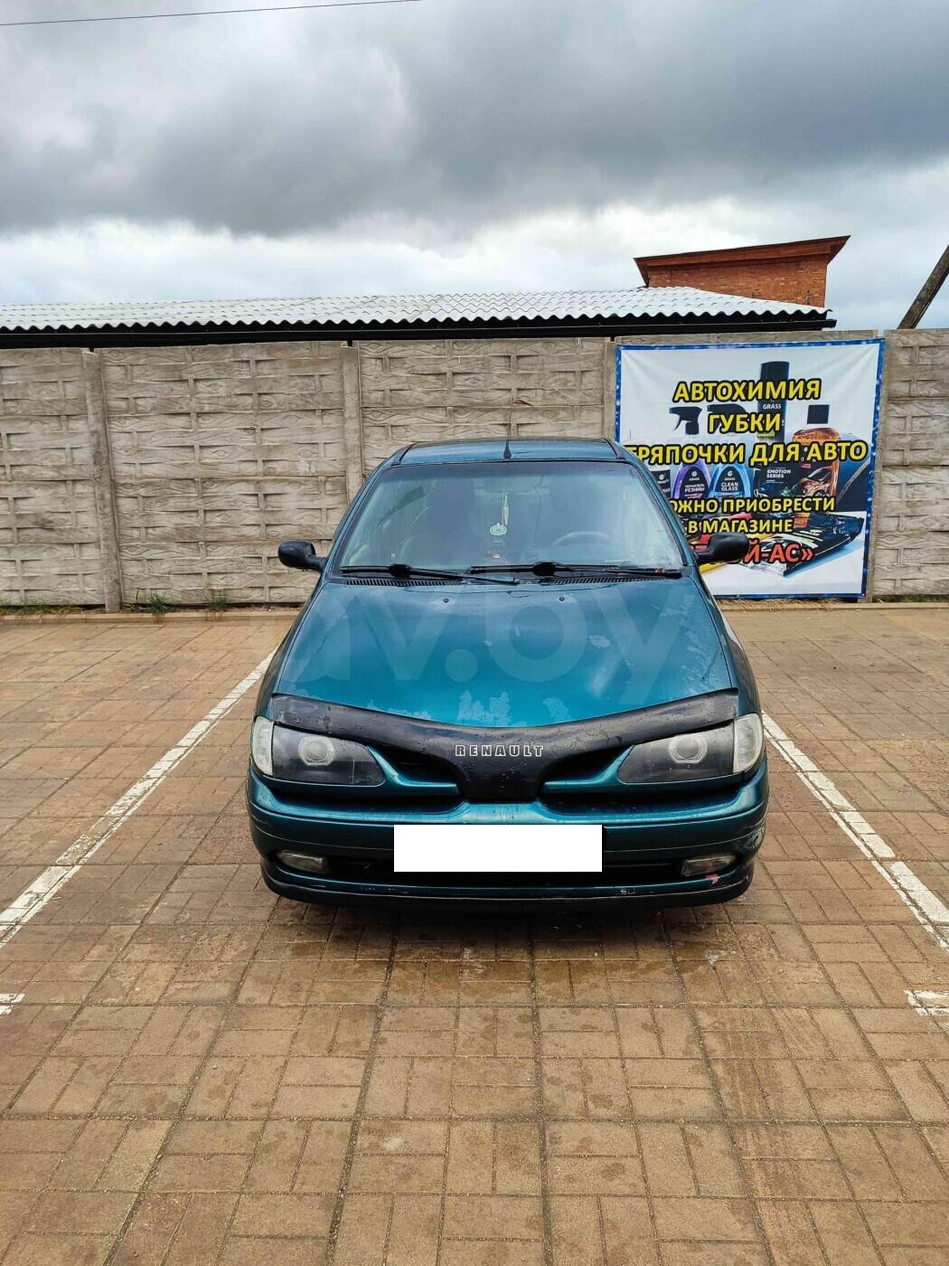Megane_1995-1999: (244, 423, 797, 948)
